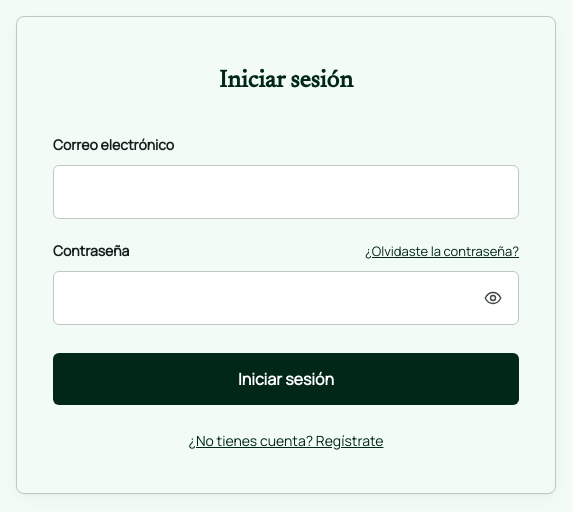
Scenario: Login Page - password visibility toggle › re-masks password to type password on second toggle click (C3)
Type "MiSecreto123" into the password field labelled "Contraseña". click: (286, 298)
box: [53,271,519,325]
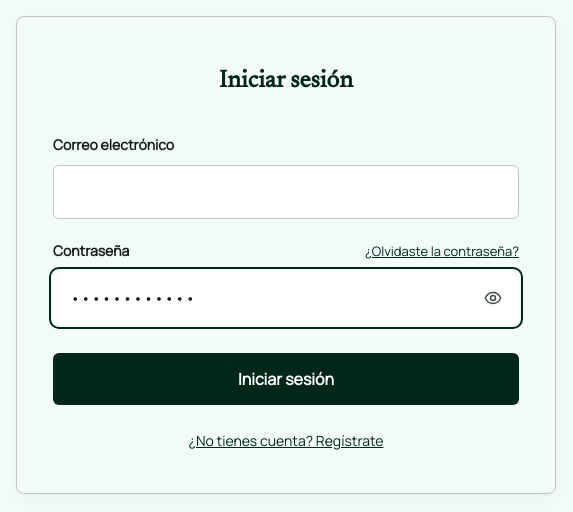
Click the button named "Mostrar contraseña". click: (493, 298)
box: [479,284,507,312]
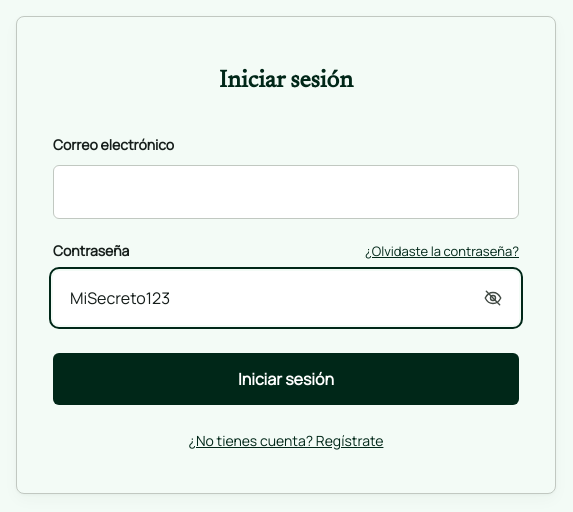
Click the button named "Ocultar contraseña". click: (493, 298)
box: [479,284,507,312]
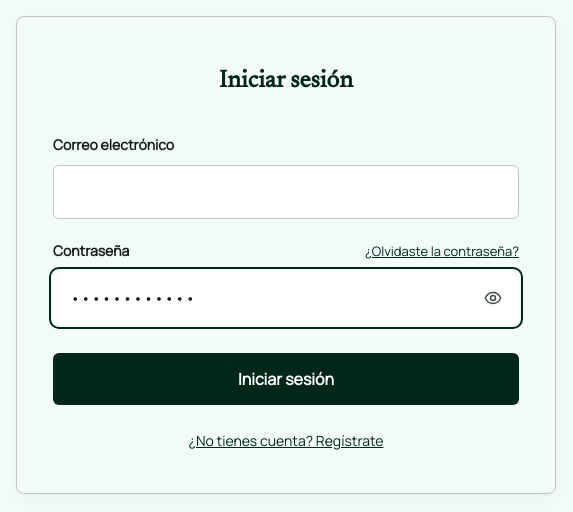
Expected: the password field labelled "Contraseña" hides its text, [53,271,519,325]
